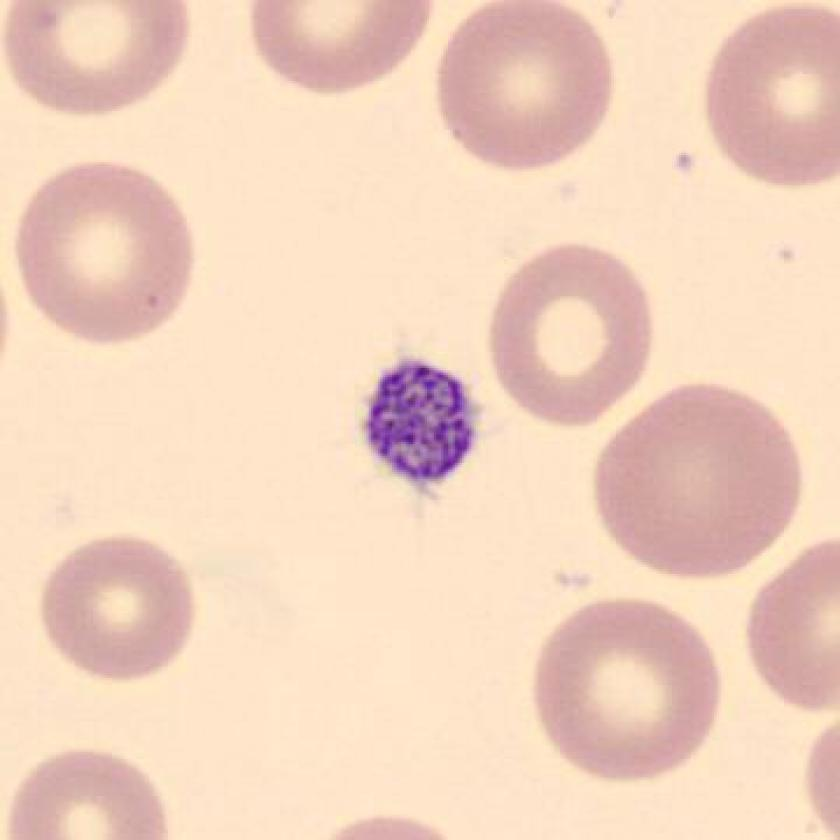platelets: (349, 344, 491, 506)
